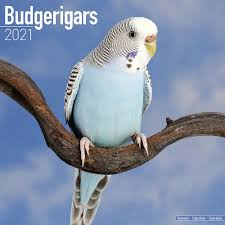budgie: (60, 14, 161, 225)
